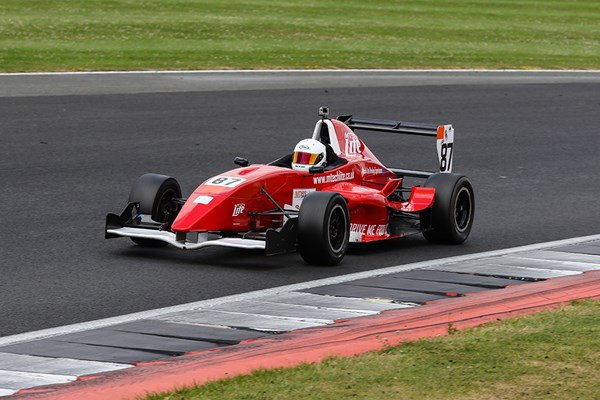race car: (102, 104, 473, 269)
